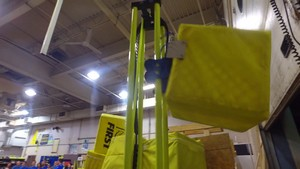cube: (167, 23, 271, 135)
